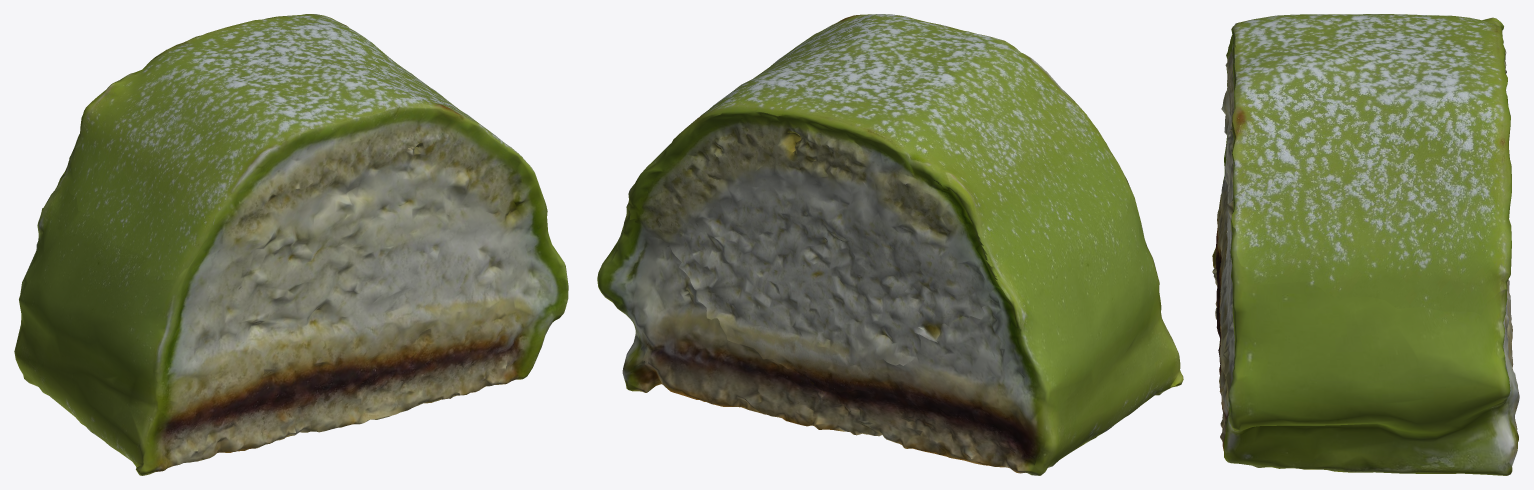
The picture shows the model from 3 angles, left to right: view 1: azimuth 30°, elevation 25°; view 2: azimuth 150°, elevation 25°; view 3: azimuth 270°, elevation 25°; orthographic projection. The views are drawn at different scales.
Parts seen in each view (by area): view 1: Model; view 2: Model; view 3: Model.
Part boxes in pixels (x1=…): Model: x1=14, y1=14, x2=568, y2=475; Model: x1=597, y1=14, x2=1183, y2=475; Model: x1=1212, y1=14, x2=1519, y2=475.
Size of the model in its own units: 0.09 by 0.062 by 0.0508.
Materials: 2 (2 with a texture image).
